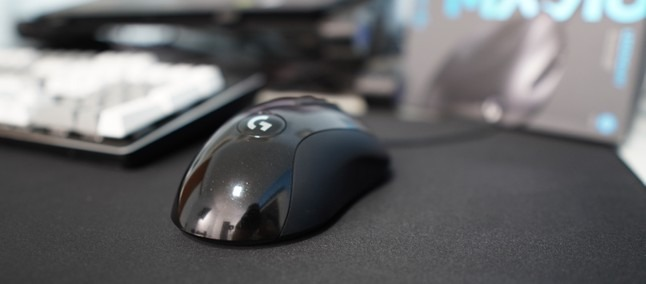mouse: (168, 89, 396, 246)
